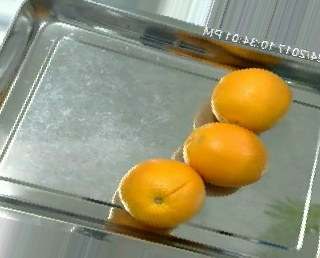Orange: (118, 157, 205, 227), (182, 121, 265, 188), (209, 68, 292, 132)
